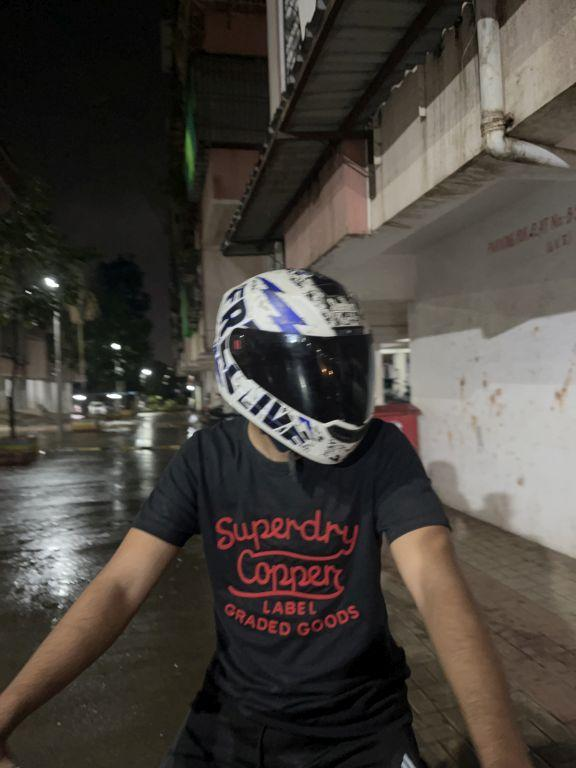helmet: (204, 252, 386, 478)
